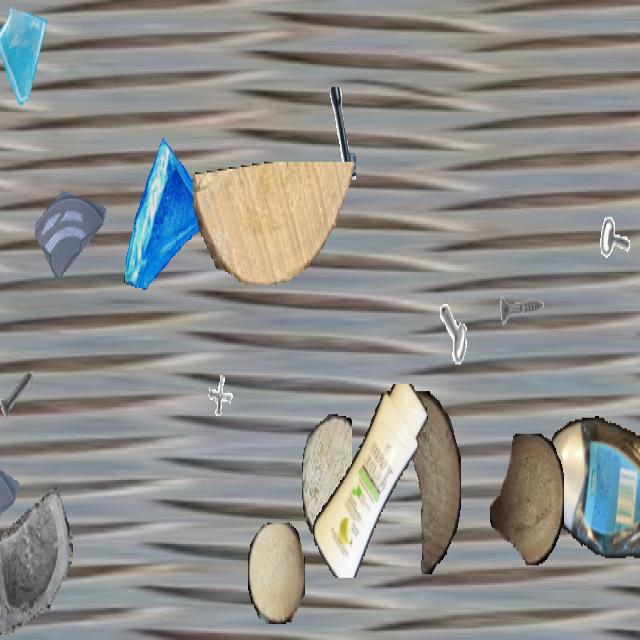glass: (122, 137, 216, 304), (0, 482, 72, 638), (35, 162, 107, 290), (0, 2, 52, 105), (0, 416, 19, 572)
metal: (298, 87, 356, 190), (439, 270, 493, 366), (498, 270, 544, 352), (0, 357, 38, 432), (202, 361, 242, 432), (600, 192, 640, 263)
plastic: (310, 384, 432, 576), (545, 414, 640, 585)
wood: (193, 162, 359, 282), (389, 391, 461, 573), (490, 434, 564, 565), (302, 414, 352, 542), (248, 523, 304, 622)
